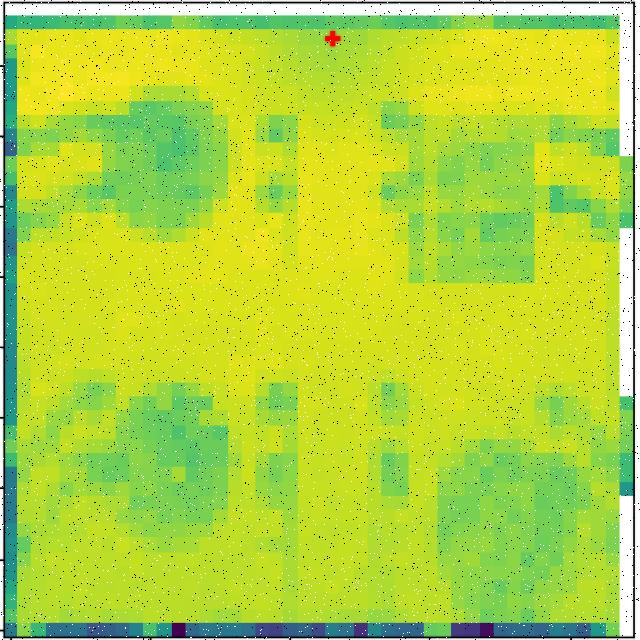Concrete: (89, 68, 247, 232)
Glass: (423, 407, 598, 640)
Metal: (82, 362, 257, 566)
Wood: (372, 86, 556, 301)
